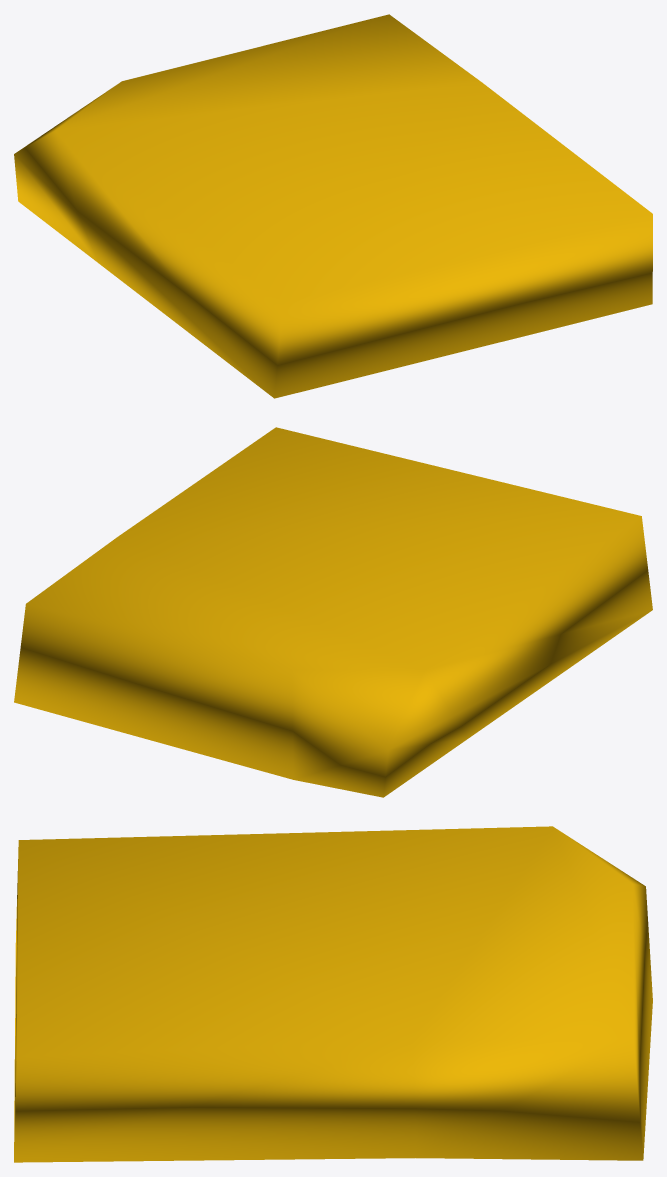
Rendered from Stone_Tile_B_01_Lod0.fbx.
3 renders of one model, top to bottom at view 1: azimuth 30°, elevation 25°; view 2: azimuth 150°, elevation 25°; view 3: azimuth 270°, elevation 25°, orthographic. The views are drawn at different scales.
Parts seen in each view (by area): view 1: Stone_Tile_B_01_Lod0; view 2: Stone_Tile_B_01_Lod0; view 3: Stone_Tile_B_01_Lod0.
Part boxes in pixels (bbox=[...]): Stone_Tile_B_01_Lod0: bbox=[14, 14, 652, 398]; Stone_Tile_B_01_Lod0: bbox=[14, 427, 652, 797]; Stone_Tile_B_01_Lod0: bbox=[14, 826, 652, 1162].
Size of the model in its own units: 175 by 47.27 by 213.
